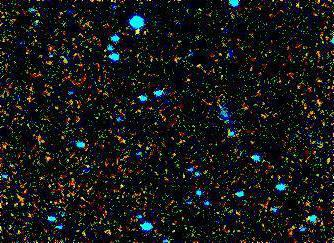star: (124, 16, 154, 46)
